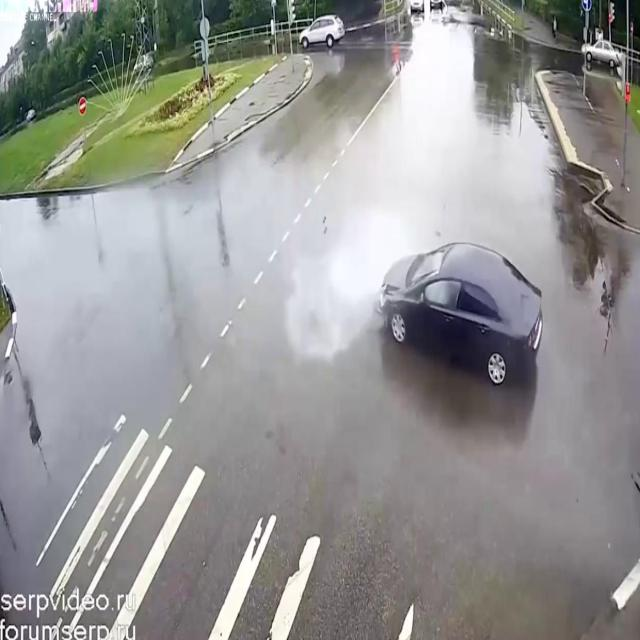accident: (342, 223, 550, 401)
